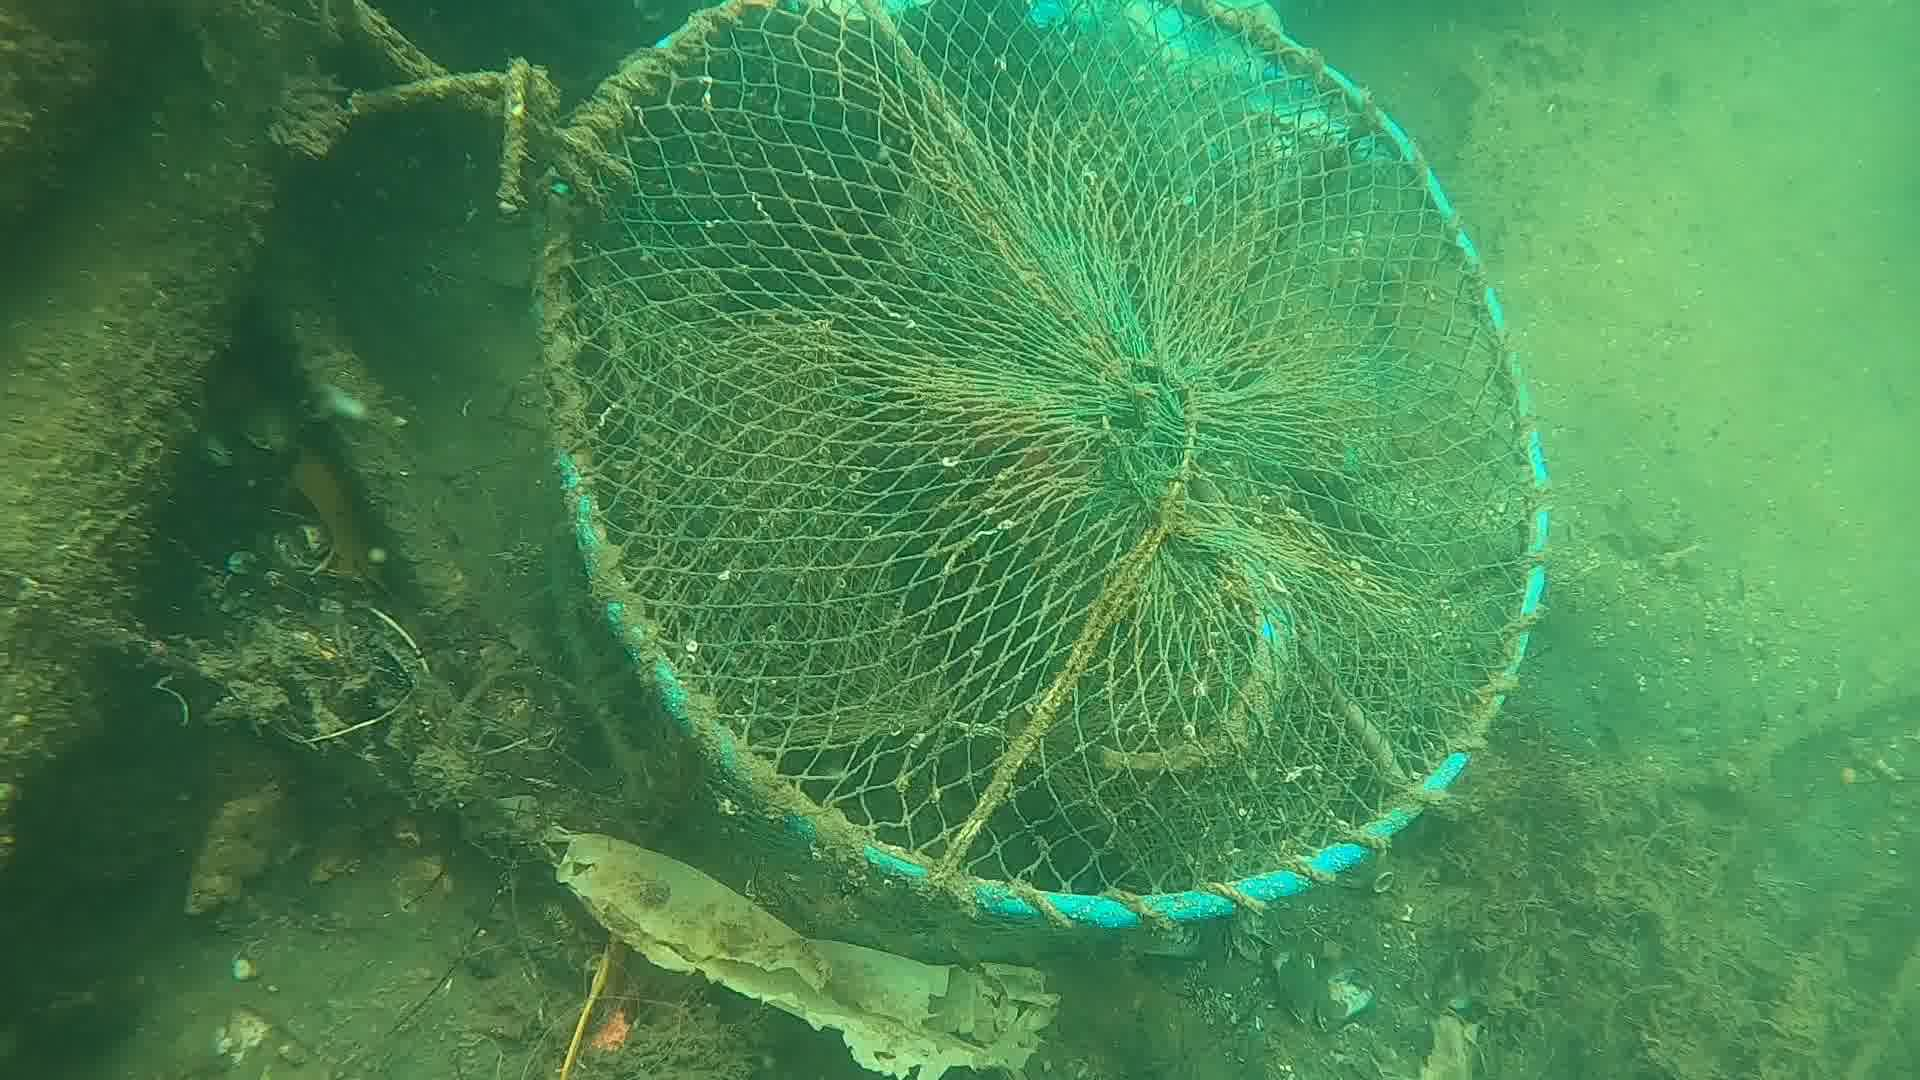circular fish trap: (535, 0, 1561, 928)
